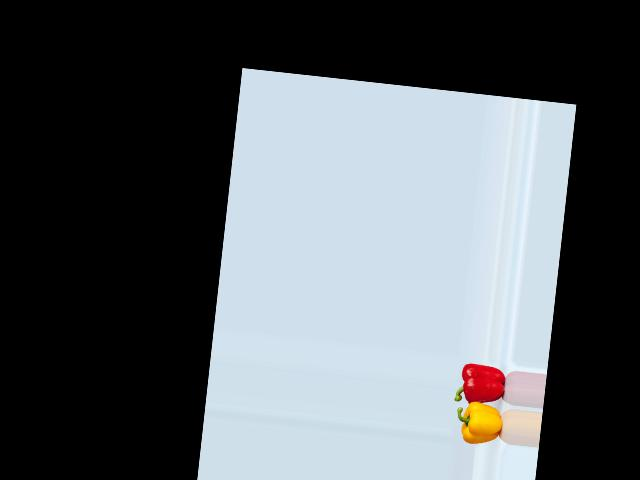bell_pepper: (455, 358, 512, 408)
